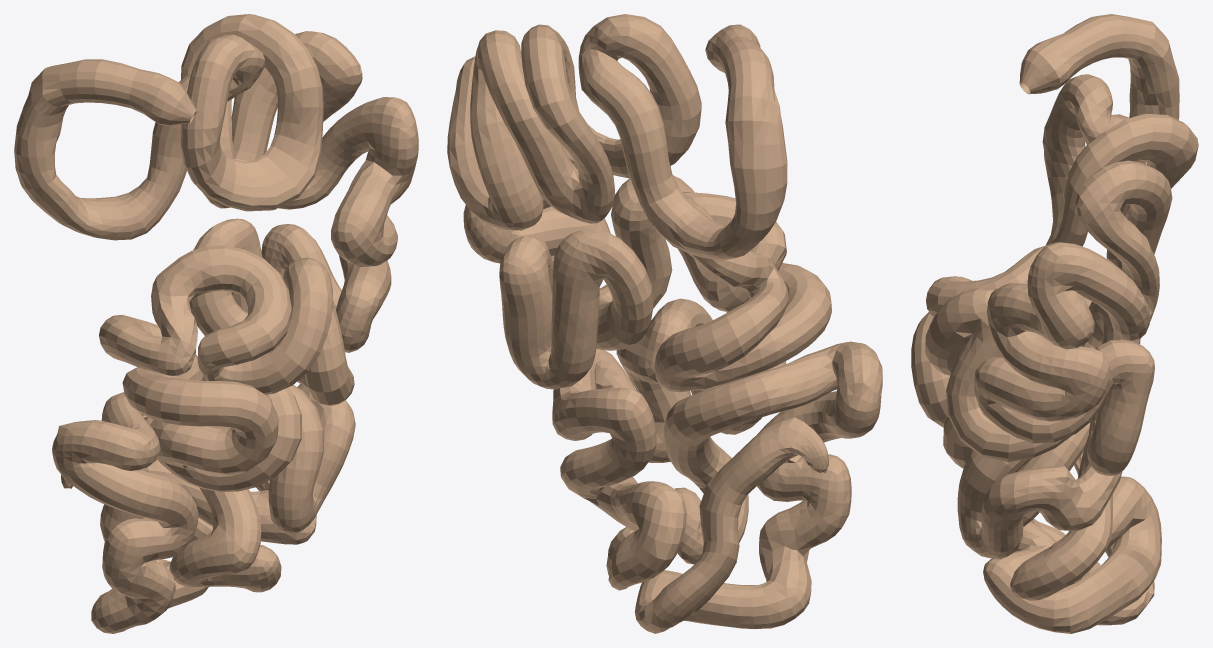
File: small_intestine.glb
3 views of the same model, side by side, from view 1: azimuth 30°, elevation 25°; view 2: azimuth 150°, elevation 25°; view 3: azimuth 270°, elevation 25° (orthographic). The views are drawn at different scales.
Parts seen in each view (by area): view 1: small_intestine; view 2: small_intestine; view 3: small_intestine.
Part boxes in pixels (bbox=[...]): small_intestine: bbox=[14, 14, 418, 633]; small_intestine: bbox=[447, 14, 882, 633]; small_intestine: bbox=[911, 14, 1198, 633].
Size of the model in its own units: 0.188 by 0.2654 by 0.1222.
